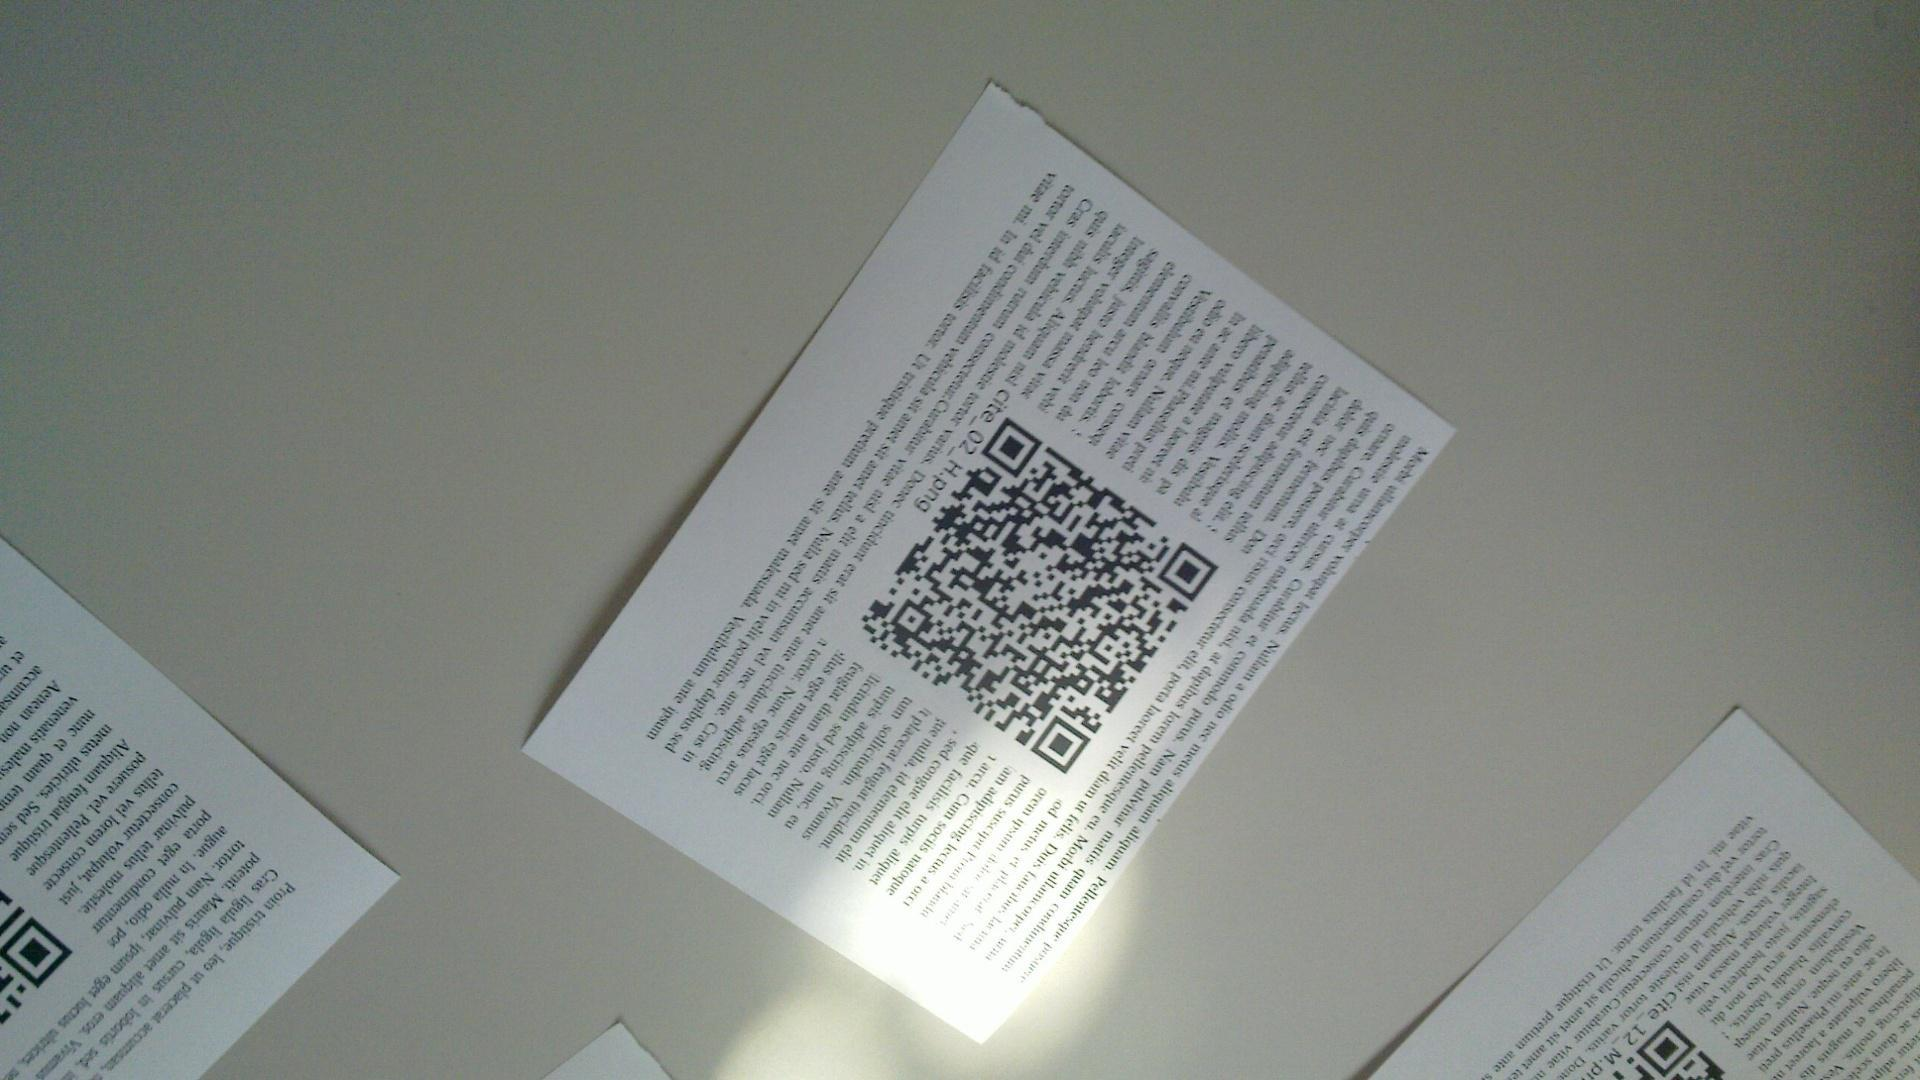Finder pattern: (1029, 712, 1089, 774), (977, 421, 1040, 475), (1160, 538, 1215, 601)
